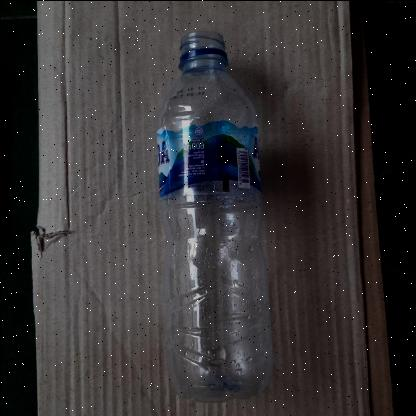Plastic Bottle: (158, 28, 272, 400)
